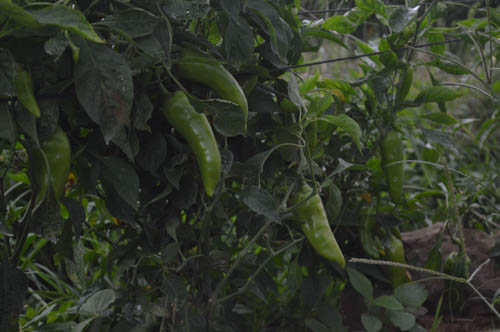ChiliPepper: (175, 55, 256, 136), (162, 90, 221, 199), (289, 185, 354, 272), (26, 128, 72, 202), (373, 129, 409, 215), (376, 230, 409, 291), (12, 65, 42, 115)
